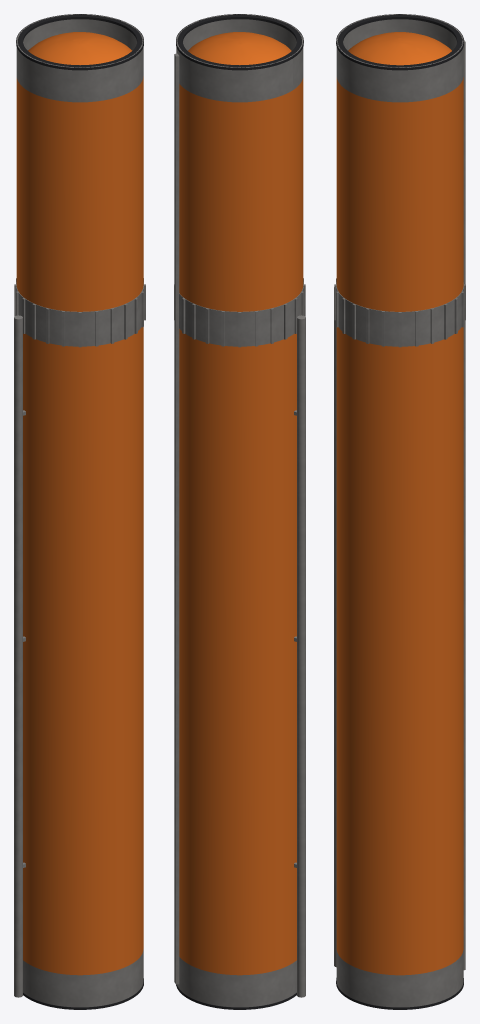
File: tank02_hydrolox_xl.glb
3 views of the same model, side by side, from view 1: azimuth 30°, elevation 25°; view 2: azimuth 150°, elevation 25°; view 3: azimuth 330°, elevation 25° (orthographic).
Visible parts, largest first — view 1: tank, skirts, lox_feedline, intertank, stack_flanges; view 2: tank, skirts, lox_feedline, raceway, intertank, stack_flanges; view 3: tank, skirts, intertank, raceway, stack_flanges, lox_feedline.
Boxes of the visible parts, x1,y1,x2,y2 form: tank: (16,32,143,975); skirts: (16,14,143,1007); lox_feedline: (14,315,25,997); intertank: (14,278,145,347); stack_flanges: (16,14,143,1009); tank: (179,32,303,975); skirts: (176,14,303,1007); lox_feedline: (294,315,305,997); raceway: (174,53,179,984); intertank: (174,278,305,347); stack_flanges: (176,14,303,1009); tank: (336,32,463,975); skirts: (336,14,463,1007); intertank: (334,278,465,347); raceway: (463,40,465,970); stack_flanges: (336,14,463,1009); lox_feedline: (334,287,336,967).
Size of the model in its own units: 5.56 by 40.9 by 5.18.
Materials: 3 (1 with a texture image).
